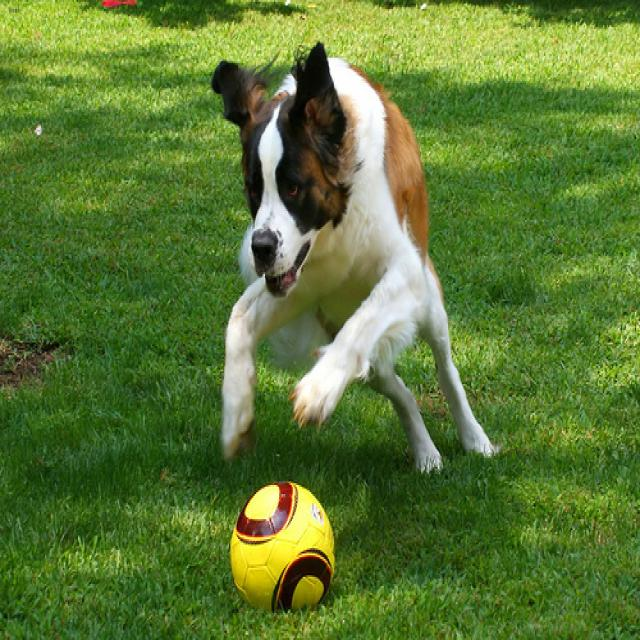dog-saint_bernard: (207, 36, 500, 483)
